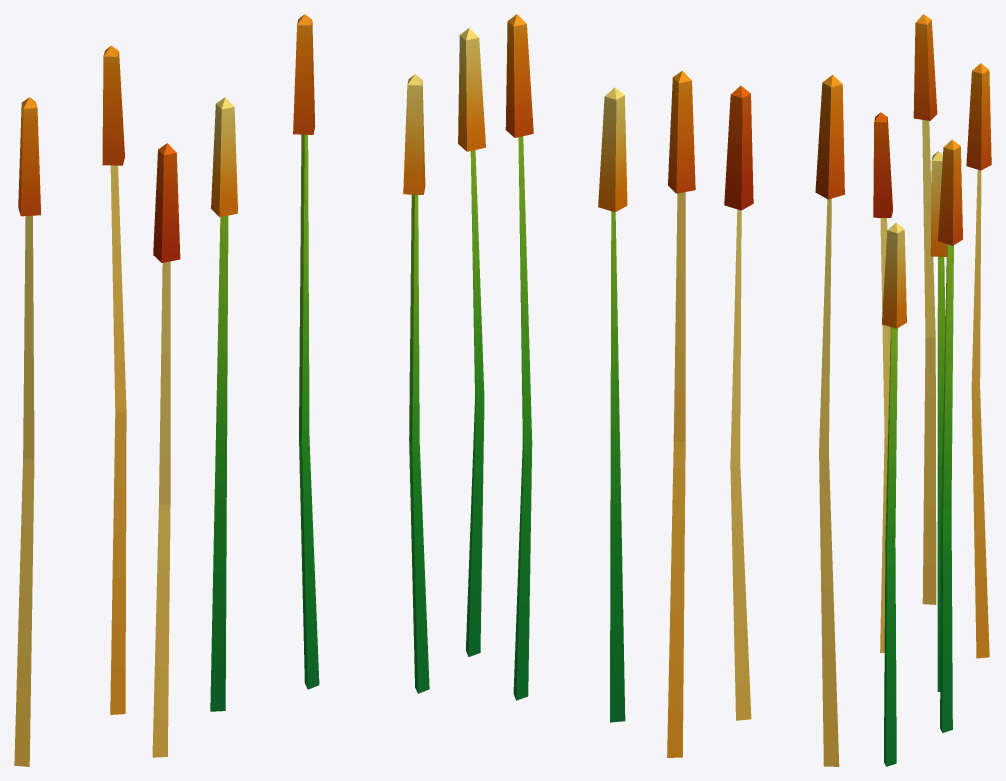
The model's file is Agricultural_Plant_5C.fbx.
3 views of the same model, side by side, from view 1: azimuth 30°, elevation 25°; view 2: azimuth 150°, elevation 25°; view 3: azimuth 270°, elevation 25° (orthographic). The views are drawn at different scales.
Parts seen in each view (by area): view 1: Agricultural_Plant_5C; view 2: Agricultural_Plant_5C; view 3: Agricultural_Plant_5C.
Part boxes in pixels (left/top/right/bottom): Agricultural_Plant_5C: left=14, top=14, right=429, bottom=766; Agricultural_Plant_5C: left=458, top=14, right=844, bottom=766; Agricultural_Plant_5C: left=873, top=14, right=991, bottom=766.
Size of the model in its own units: 73.27 by 120 by 21.77.
